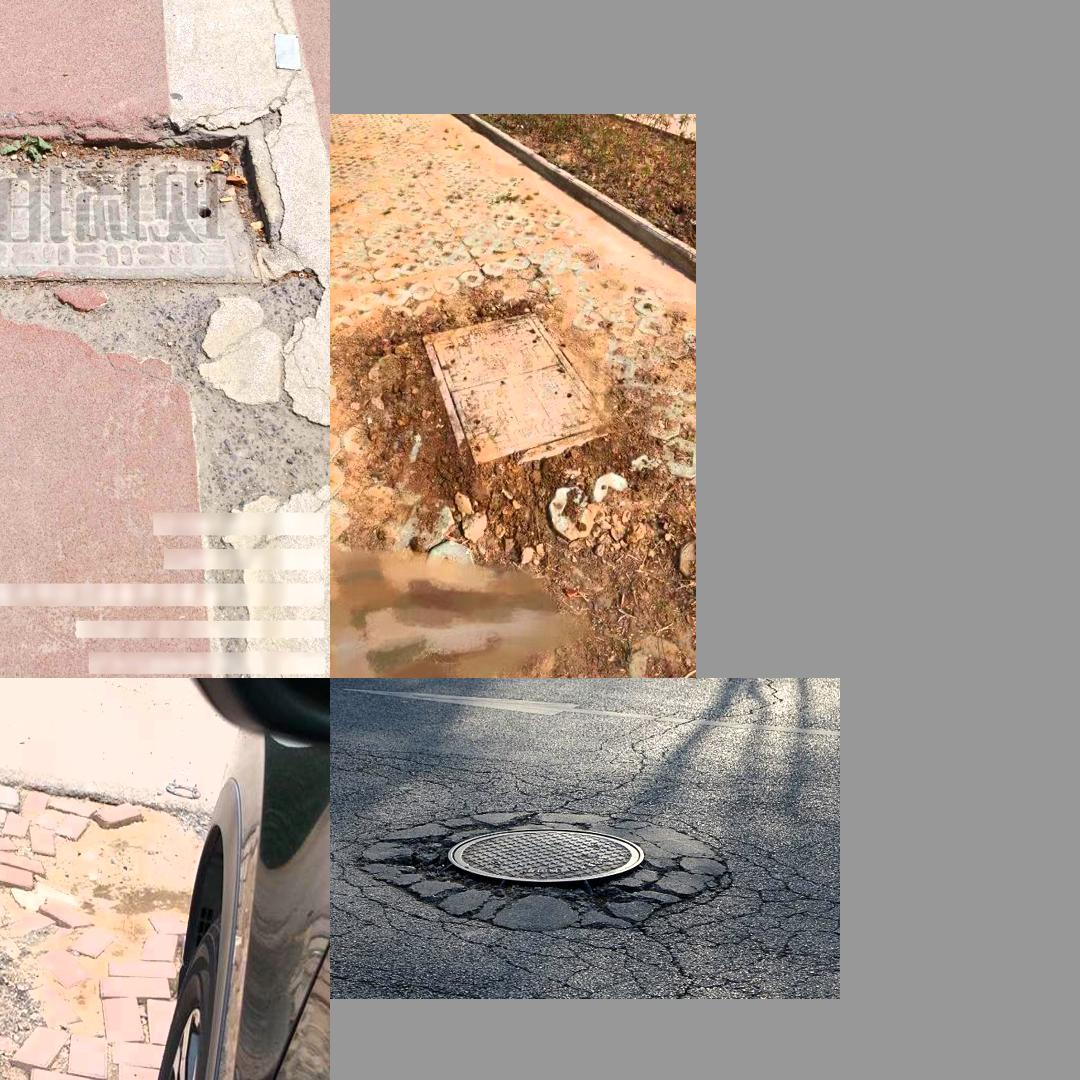circle: (378, 796, 735, 945), (0, 126, 287, 292), (405, 308, 628, 493), (0, 779, 27, 1038)
